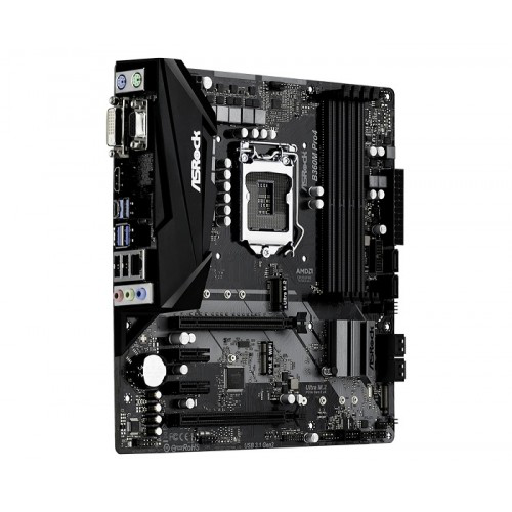CPU: (230, 135, 306, 261)
GPU: (163, 307, 312, 339), (166, 405, 321, 433)
MOTHERBOARD: (103, 56, 409, 449)
RAM: (312, 80, 386, 299)
SSD: (263, 273, 291, 314), (259, 338, 277, 375)
